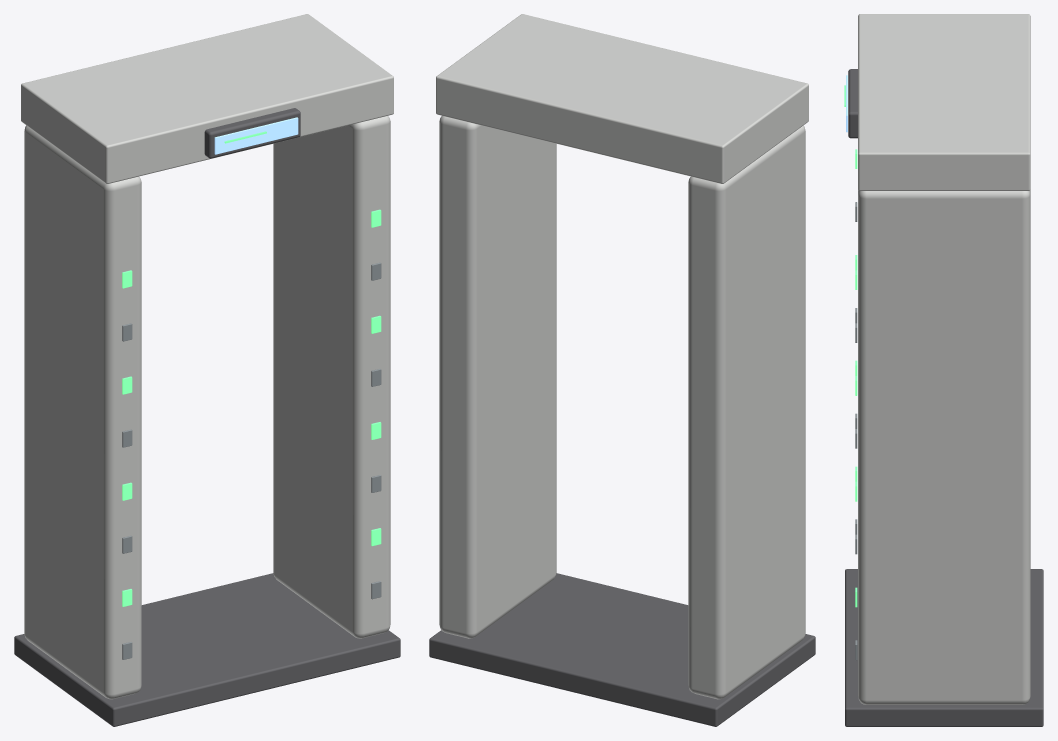
Rendered from prison-complex-builder-walk-through-metal-detector-866c3140__25638.glb.
3 views of the same model, side by side, from view 1: azimuth 30°, elevation 25°; view 2: azimuth 150°, elevation 25°; view 3: azimuth 270°, elevation 25° (orthographic).
Visible parts, largest first — view 1: walk-through-metal-detector; view 2: walk-through-metal-detector; view 3: walk-through-metal-detector.
Boxes of the visible parts, box(x1,y1,x2,y2) form: walk-through-metal-detector: box(14, 14, 400, 726); walk-through-metal-detector: box(429, 14, 815, 726); walk-through-metal-detector: box(844, 14, 1043, 726).
Size of the model in its own units: 1.25 by 2.39 by 0.7525.
